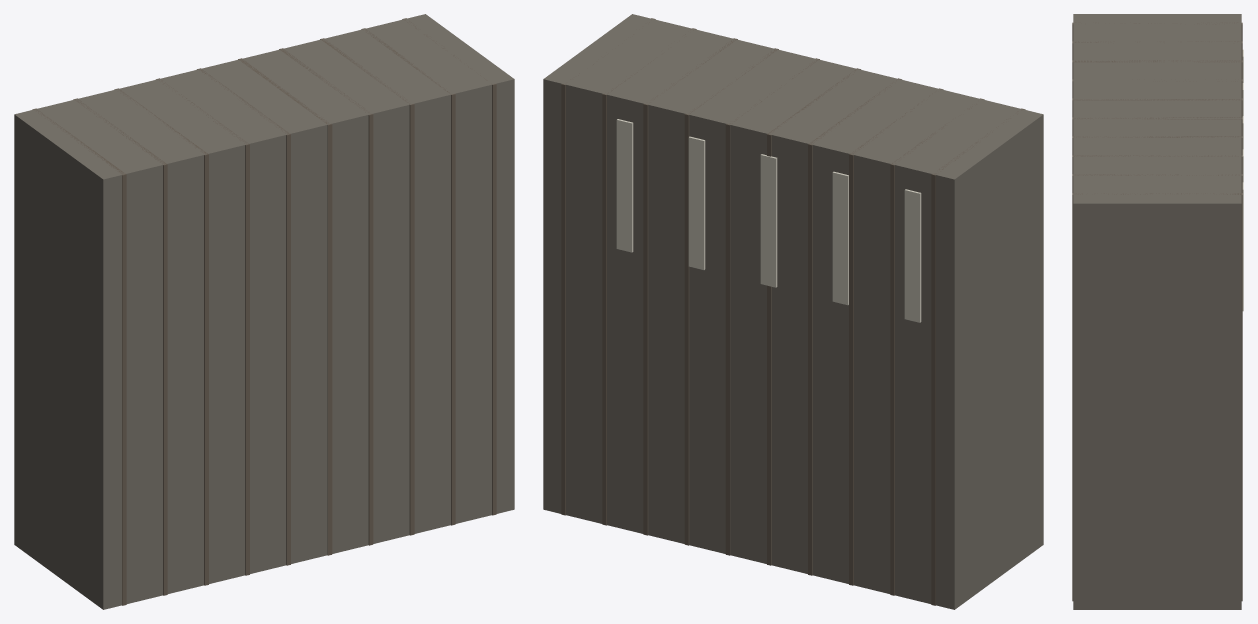
Rendered from f13-cliff-face.glb.
3 renders of one model, left to right at view 1: azimuth 30°, elevation 25°; view 2: azimuth 150°, elevation 25°; view 3: azimuth 270°, elevation 25°, orthographic. The views are drawn at different scales.
Parts seen in each view (by area): view 1: part0, part6, part8, part7, part1, part2, part9, part5, part3, part4, part10; view 2: part0, part8, part6, part7, part11, part15, part13, part14, part4, part3, part2, part1 (+4 smaller); view 3: part0, part10, part5, part6, part3, part15.
Part boxes in pixels (x1,y1,x2,y2): part0: [14, 14, 514, 609]; part6: [238, 58, 332, 555]; part8: [320, 38, 414, 535]; part7: [279, 48, 373, 545]; part1: [32, 108, 126, 605]; part2: [73, 98, 167, 595]; part9: [361, 28, 455, 525]; part5: [197, 68, 290, 565]; part3: [114, 88, 208, 585]; part4: [156, 78, 249, 575]; part10: [402, 18, 496, 515]; part0: [543, 14, 1043, 609]; part8: [643, 38, 737, 535]; part6: [725, 58, 819, 555]; part7: [684, 48, 778, 545]; part11: [904, 189, 921, 322]; part15: [616, 119, 633, 252]; part13: [760, 154, 777, 287]; part14: [688, 136, 705, 269]; part4: [808, 78, 901, 575]; part3: [849, 88, 943, 585]; part2: [890, 98, 984, 595]; part1: [931, 108, 1025, 605]; part0: [1073, 14, 1241, 609]; part10: [1072, 193, 1242, 601]; part5: [1072, 98, 1242, 117]; part6: [1072, 117, 1242, 136]; part3: [1072, 60, 1242, 79]; part15: [1242, 182, 1243, 311].
Size of the model in its own units: 40000 by 40000 by 15301.
